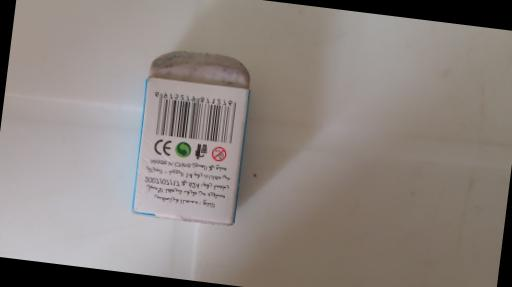Eraser: (130, 45, 255, 225)
